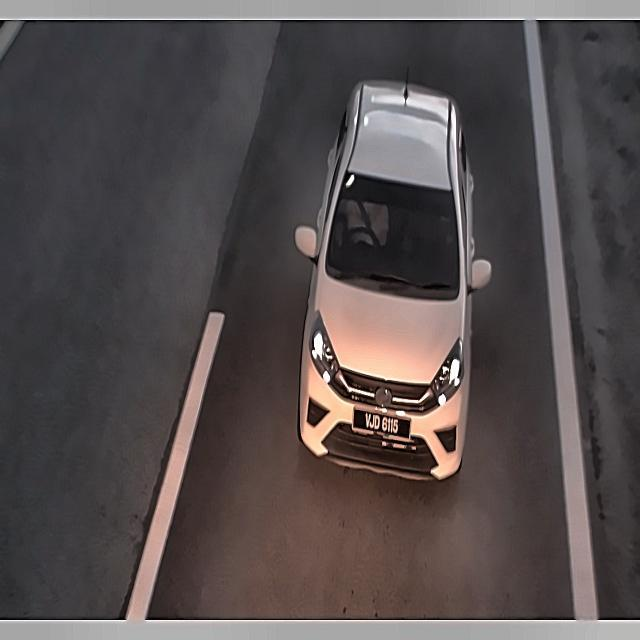car: (354, 403, 411, 444)
